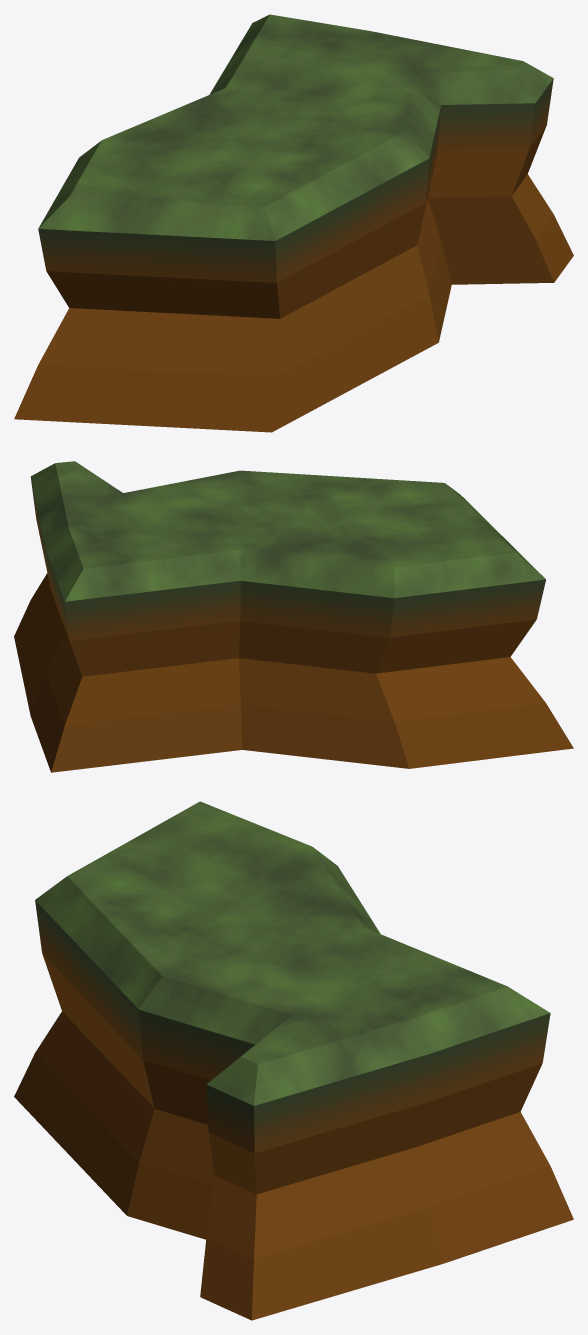
Rendered from E2_Terreno_Lvl1_T.fbx.
3 renders of one model, top to bottom at view 1: azimuth 30°, elevation 25°; view 2: azimuth 150°, elevation 25°; view 3: azimuth 270°, elevation 25°, orthographic. The views are drawn at different scales.
Visible parts, largest first — view 1: E2_modelosBlockout_nivel1; view 2: E2_modelosBlockout_nivel1; view 3: E2_modelosBlockout_nivel1.
Boxes of the visible parts, x1=… form: E2_modelosBlockout_nivel1: x1=14, y1=14, x2=573, y2=432; E2_modelosBlockout_nivel1: x1=14, y1=461, x2=573, y2=772; E2_modelosBlockout_nivel1: x1=14, y1=801, x2=573, y2=1320.
Size of the model in its own units: 3663 by 1217 by 2688.
